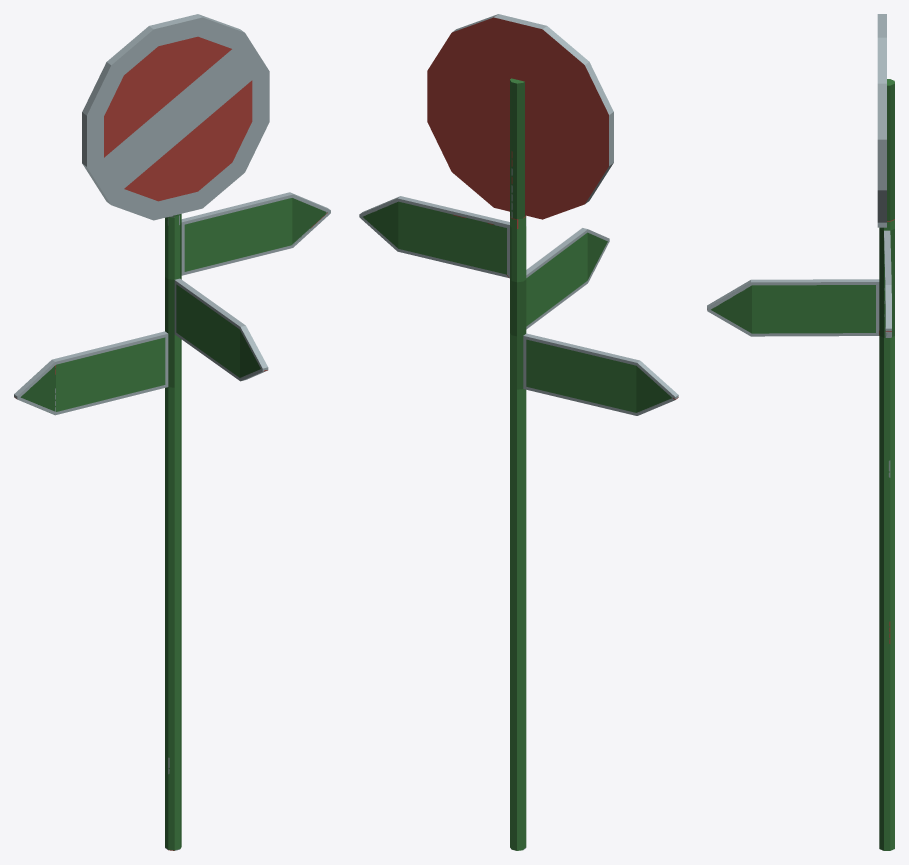
Rendered from Signage2.fbx.
3 renders of one model, left to right at view 1: azimuth 30°, elevation 25°; view 2: azimuth 150°, elevation 25°; view 3: azimuth 270°, elevation 25°, orthographic.
Parts seen in each view (by area): view 1: Cylinder.003, Cylinder.004; view 2: Cylinder.003, Cylinder.004; view 3: Cylinder.003, Cylinder.004.
Boxes of the visible parts, x1=… form: Cylinder.003: x1=14, y1=192, x2=330, y2=850; Cylinder.004: x1=82, y1=14, x2=269, y2=220; Cylinder.003: x1=359, y1=78, x2=678, y2=850; Cylinder.004: x1=427, y1=14, x2=613, y2=219; Cylinder.003: x1=707, y1=79, x2=894, y2=850; Cylinder.004: x1=877, y1=14, x2=886, y2=227.
Size of the model in its own units: 198 by 495 by 102.
